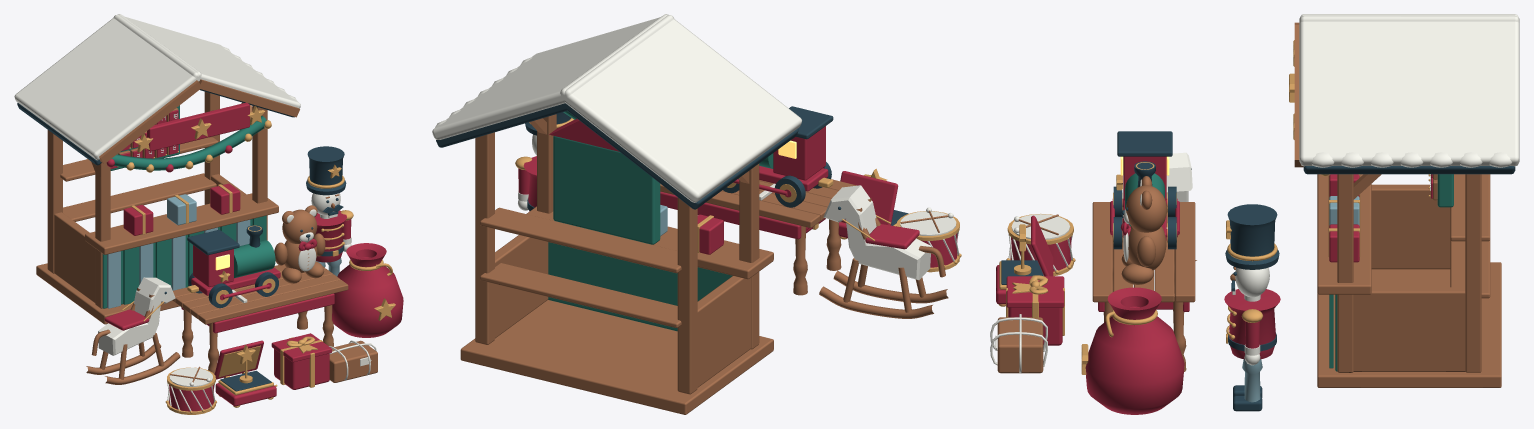
File: storybook-christmas-market-santa-toy-workshop-01bea88e.glb
The picture shows the model from 3 angles, left to right: view 1: azimuth 30°, elevation 25°; view 2: azimuth 150°, elevation 25°; view 3: azimuth 270°, elevation 25°; orthographic projection. The views are drawn at different scales.
Parts seen in each view (by area): view 1: 000-toy-market-stall/0, 000-toy-market-stall/4, 001-turned-leg-display-table/0, 007-santa-toy-sack/0, 000-toy-market-stall/1, 000-toy-market-stall/5, 000-toy-market-stall/2, 003-painted-rocking-horse/1, 005-stitched-teddy-bear/0, 010-ribbon-wrapped-gift/0, 003-painted-rocking-horse/0, 004-little-christmas-train/0 (+24 smaller); view 2: 000-toy-market-stall/0, 000-toy-market-stall/4, 009-numbered-advent-calendar/0, 000-toy-market-stall/1, 001-turned-leg-display-table/0, 003-painted-rocking-horse/1, 003-painted-rocking-horse/0, 000-toy-market-stall/3, 004-little-christmas-train/0, 004-little-christmas-train/1, 001-turned-leg-display-table/1, 006-star-music-box/open-lid (+7 smaller); view 3: 000-toy-market-stall/0, 000-toy-market-stall/4, 007-santa-toy-sack/0, 001-turned-leg-display-table/0, 002-heirloom-nutcracker/0, 005-stitched-teddy-bear/0, 004-little-christmas-train/1, 011-twine-tied-parcel/0, 002-heirloom-nutcracker/2, 010-ribbon-wrapped-gift/0, 000-toy-market-stall/3, 002-heirloom-nutcracker/3 (+17 smaller).
Part boxes in pixels (x1,y1,x2,y2): 000-toy-market-stall/0: (36, 79, 299, 324); 000-toy-market-stall/4: (14, 14, 300, 160); 001-turned-leg-display-table/0: (172, 264, 348, 374); 007-santa-toy-sack/0: (332, 243, 403, 337); 000-toy-market-stall/1: (102, 115, 266, 308); 000-toy-market-stall/5: (106, 102, 249, 235); 000-toy-market-stall/2: (107, 194, 250, 308); 003-painted-rocking-horse/1: (98, 277, 175, 355); 005-stitched-teddy-bear/0: (274, 205, 325, 283); 010-ribbon-wrapped-gift/0: (271, 333, 331, 389); 003-painted-rocking-horse/0: (86, 288, 180, 384); 004-little-christmas-train/0: (191, 245, 280, 300); 000-toy-market-stall/0: (460, 114, 773, 414); 000-toy-market-stall/4: (432, 14, 801, 202); 009-numbered-advent-calendar/0: (553, 136, 660, 244); 000-toy-market-stall/1: (548, 111, 732, 331); 001-turned-leg-display-table/0: (660, 179, 856, 295); 003-painted-rocking-horse/1: (823, 185, 931, 280); 003-painted-rocking-horse/0: (819, 198, 948, 318); 000-toy-market-stall/3: (436, 103, 798, 209); 004-little-christmas-train/0: (733, 126, 828, 197); 004-little-christmas-train/1: (723, 106, 833, 207); 001-turned-leg-display-table/1: (660, 191, 808, 239); 006-star-music-box/open-lid: (840, 171, 898, 225); 000-toy-market-stall/0: (1294, 22, 1501, 387); 000-toy-market-stall/4: (1299, 14, 1519, 167); 007-santa-toy-sack/0: (1085, 287, 1184, 414); 001-turned-leg-display-table/0: (1092, 202, 1195, 371); 002-heirloom-nutcracker/0: (1225, 204, 1279, 411); 005-stitched-teddy-bear/0: (1121, 176, 1167, 284); 004-little-christmas-train/1: (1113, 131, 1176, 249); 011-twine-tied-parcel/0: (997, 317, 1043, 373); 002-heirloom-nutcracker/2: (1224, 289, 1280, 359); 010-ribbon-wrapped-gift/0: (1006, 276, 1064, 345); 000-toy-market-stall/3: (1303, 166, 1515, 174); 002-heirloom-nutcracker/3: (1232, 267, 1269, 365).
Bounding box in the file's own units: 4.26 × 3.21 × 4.88.
